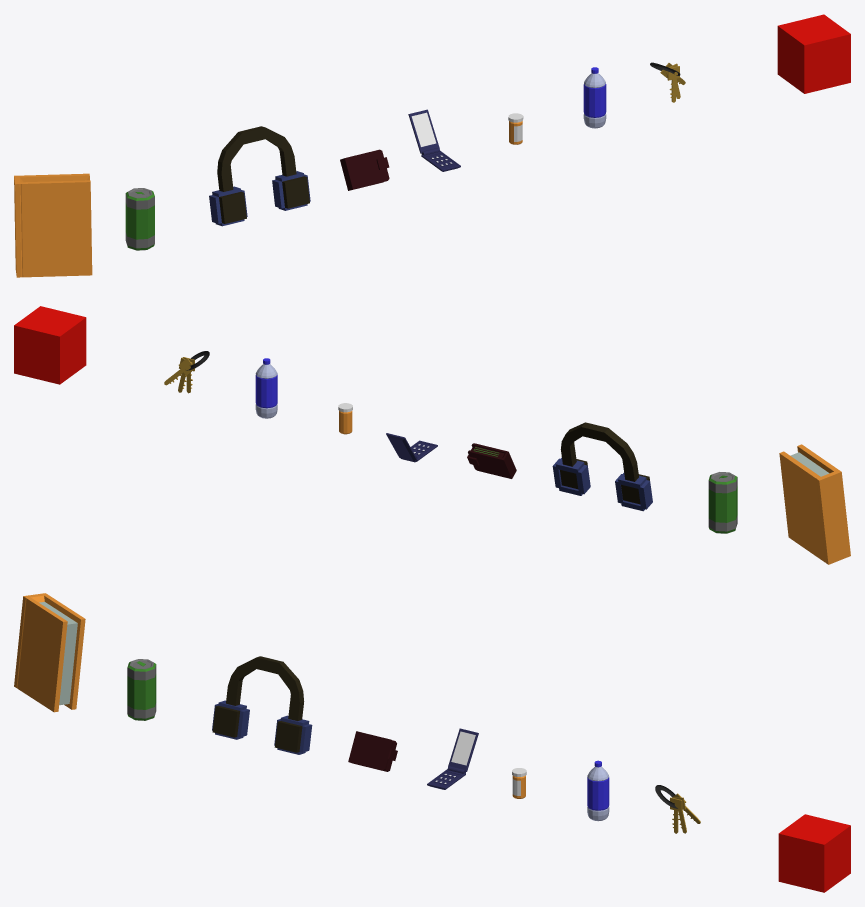
The model's file is items.glb.
The picture shows the model from 3 angles, top to bottom: view 1: azimuth 30°, elevation 25°; view 2: azimuth 150°, elevation 25°; view 3: azimuth 330°, elevation 25°; orthographic projection.
Visible parts, largest first — view 1: Book-col, Glasses-col, Headphones-col, EnergyDrink-col, Wallet-col, Phone-col, WaterBottle-col, Keys-col; view 2: Book-col, Glasses-col, Headphones-col, EnergyDrink-col, WaterBottle-col, Wallet-col, Phone-col, Keys-col; view 3: Book-col, Glasses-col, Headphones-col, EnergyDrink-col, Wallet-col, Phone-col, WaterBottle-col, Keys-col.
Boxes of the visible parts, left/top/right/bottom form: Book-col: left=14, top=173, right=92, bottom=277; Glasses-col: left=777, top=14, right=850, bottom=93; Headphones-col: left=209, top=126, right=310, bottom=226; EnergyDrink-col: left=125, top=188, right=154, bottom=250; Wallet-col: left=340, top=149, right=389, bottom=190; Phone-col: left=408, top=109, right=460, bottom=171; WaterBottle-col: left=583, top=67, right=606, bottom=128; Keys-col: left=650, top=62, right=685, bottom=102; Book-col: left=779, top=444, right=850, bottom=564; Glasses-col: left=14, top=306, right=86, bottom=384; Headphones-col: left=552, top=422, right=652, bottom=511; EnergyDrink-col: left=708, top=472, right=737, bottom=533; WaterBottle-col: left=255, top=358, right=277, bottom=418; Wallet-col: left=467, top=443, right=516, bottom=478; Phone-col: left=386, top=433, right=437, bottom=462; Keys-col: left=164, top=351, right=209, bottom=393; Book-col: left=14, top=593, right=85, bottom=712; Glasses-col: left=778, top=814, right=850, bottom=892; Headphones-col: left=212, top=656, right=312, bottom=754; EnergyDrink-col: left=127, top=659, right=156, bottom=720; Wallet-col: left=348, top=731, right=397, bottom=771; Phone-col: left=427, top=728, right=478, bottom=789; WaterBottle-col: left=587, top=760, right=609, bottom=821; Keys-col: left=655, top=785, right=700, bottom=833.
Bounding box in the file's own units: 10.85 × 1.16 × 1.09.
